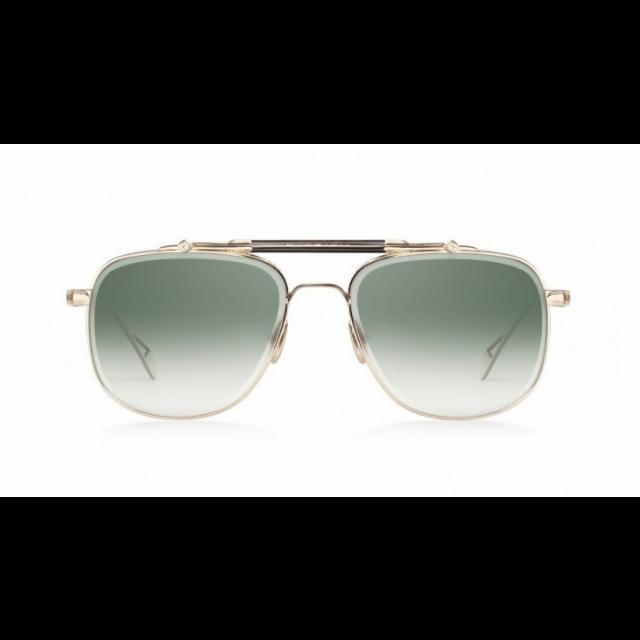glasses: (62, 234, 574, 422)
